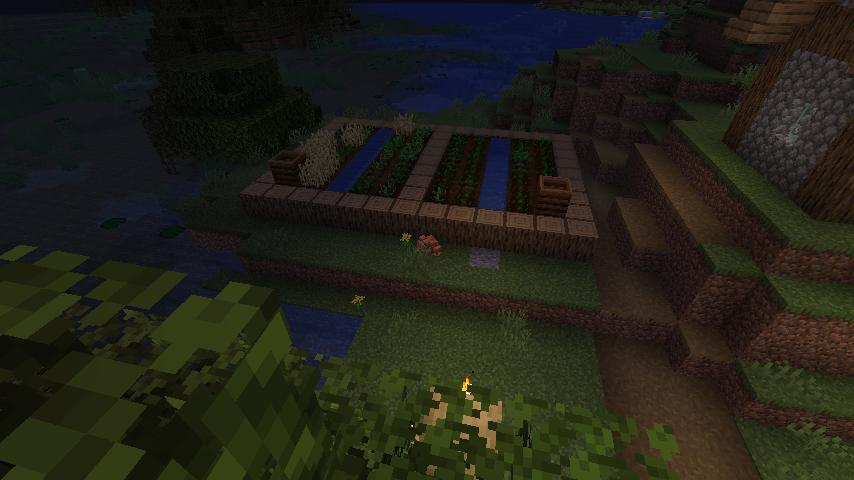skeleton: (416, 232, 444, 259)
